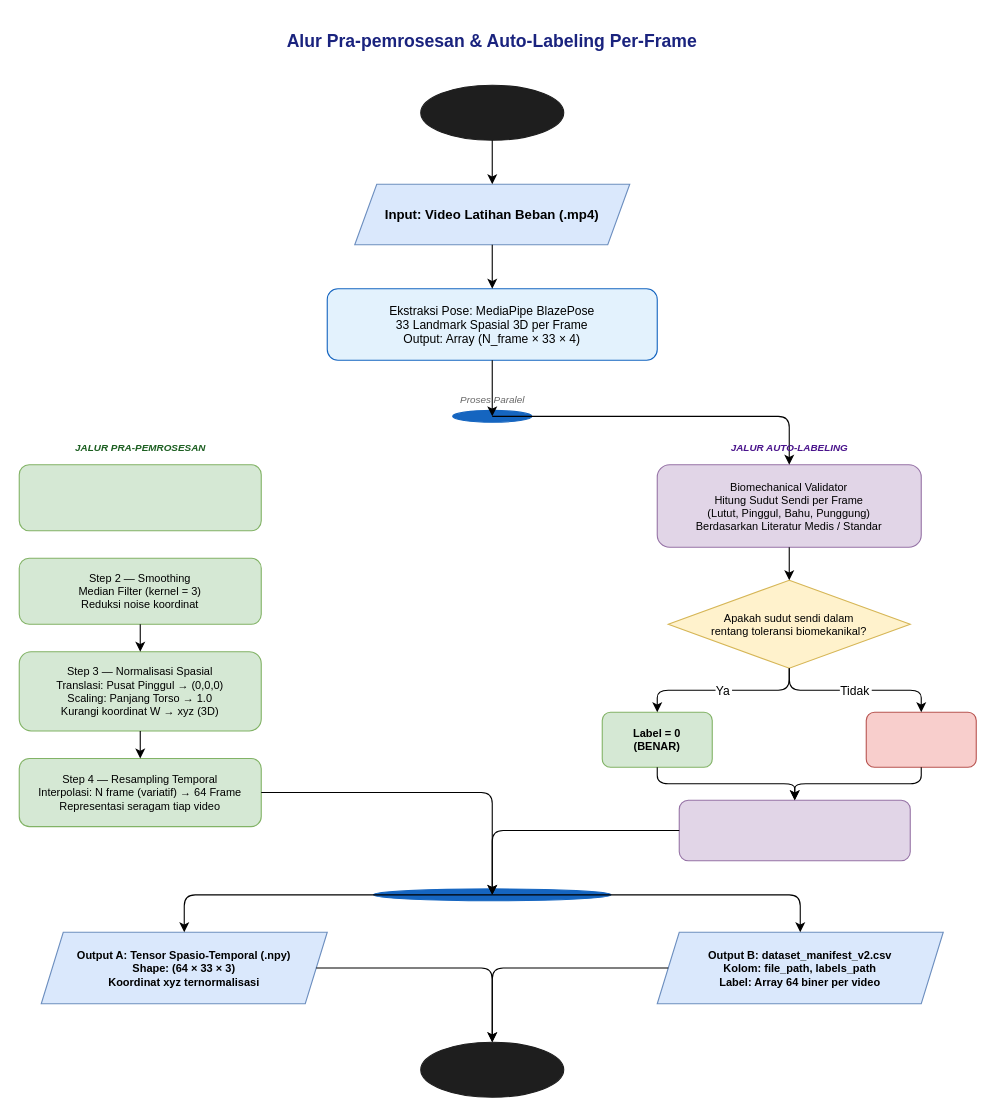
Some shapes in this 996 by 1117 pixel diagram are drawn without their labels. The centre of each missing label's shape, as x and y in pixels:
"Array Label 64 Biner per Video [0,0,1,1,0,0,1,...] shape: (64,)" goes at point (794, 830).
"Label = 1 (SALAH)" goes at point (920, 739).
"MULAI" goes at point (492, 112).
"SELESAI" goes at point (492, 1069).
"Step 1 — Filtering Hapus frame dengan > 30% NaN Interpolasi gap ≤ 5 frame" goes at point (139, 497).
